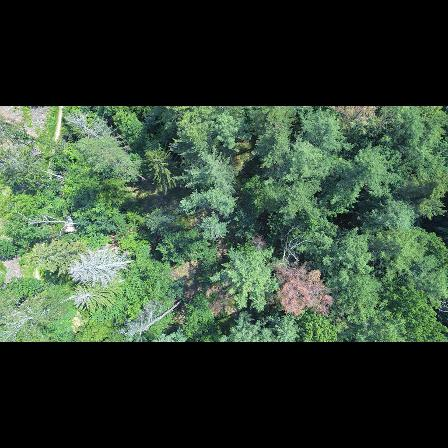Dead: (65, 245, 140, 289), (117, 296, 185, 342), (62, 110, 120, 151)
